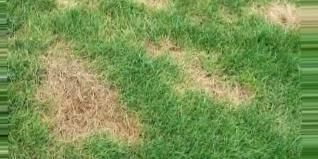patch: (41, 56, 115, 135), (152, 44, 244, 99), (265, 5, 296, 26)
